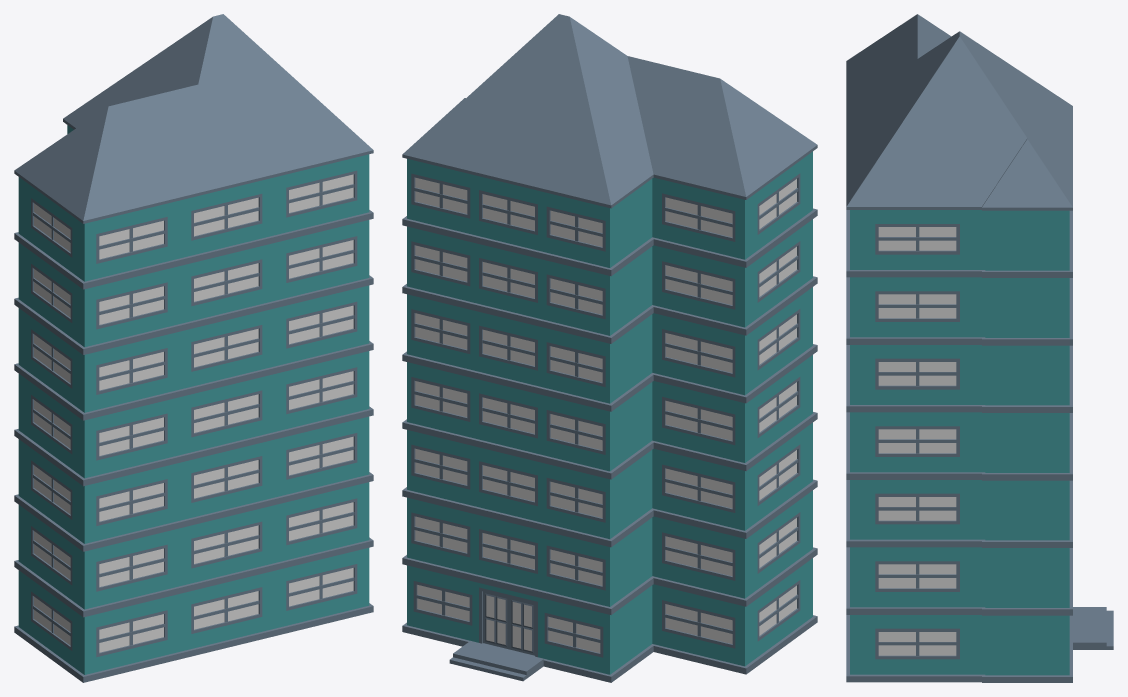
Rendered from business building 31.fbx.
3 views of the same model, side by side, from view 1: azimuth 30°, elevation 25°; view 2: azimuth 150°, elevation 25°; view 3: azimuth 270°, elevation 25° (orthographic). The views are drawn at different scales.
Visible parts, largest first — view 1: building_001; view 2: building_001; view 3: building_001.
Boxes of the visible parts, bbox=[...] form: building_001: bbox=[14, 14, 373, 682]; building_001: bbox=[402, 14, 817, 682]; building_001: bbox=[846, 14, 1113, 682].
Size of the model in its own units: 1025 by 1950 by 789.
